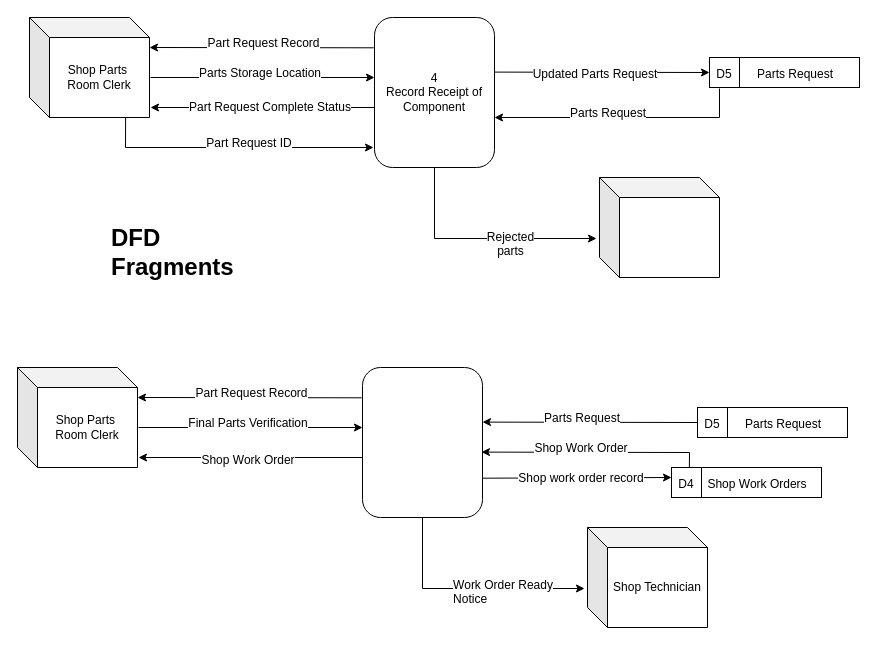
The diagram is 889 pixels wide and 645 high, and some of its shapes have lost their labels. Here are the shapes that lost their labels. From the top down, the centre of each, then its label:
point 659,227: Inventory Department
point 422,442: 5 Finalize Parts Request
